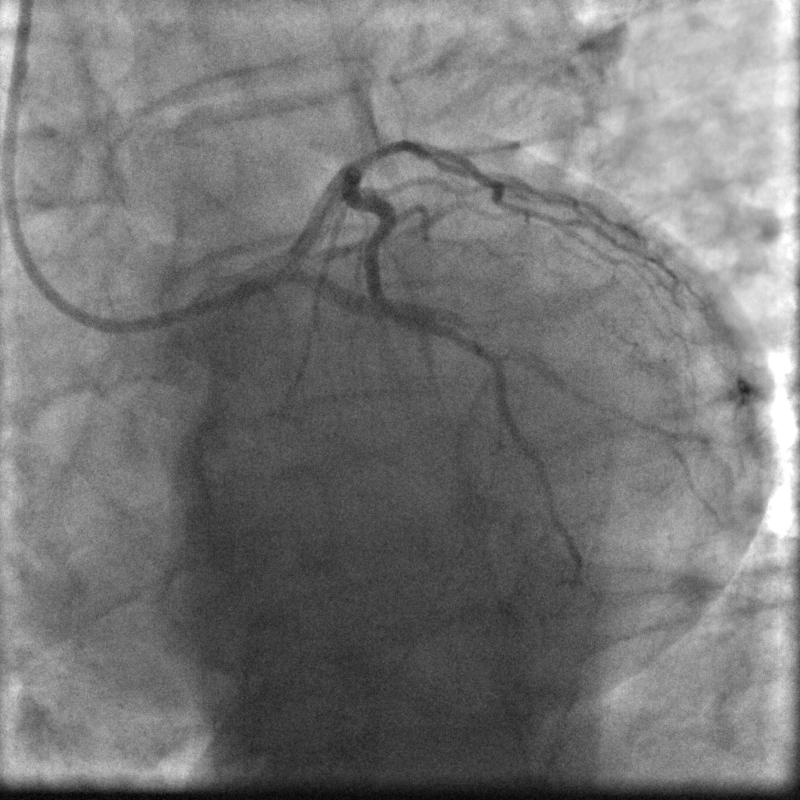Stenosis: (347, 134, 405, 178)
